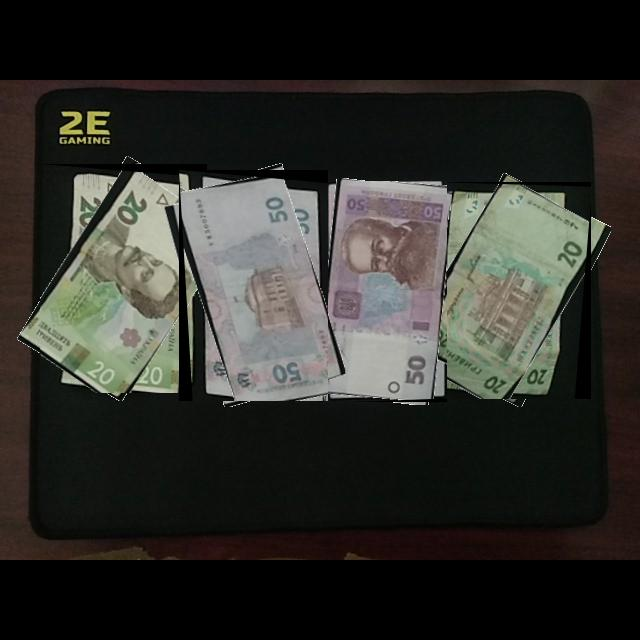20uah: (40, 164, 208, 394), (432, 182, 592, 400)
50uah: (179, 170, 329, 402), (318, 181, 448, 403)
